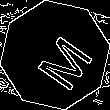M_NW: (21, 22, 89, 88)
